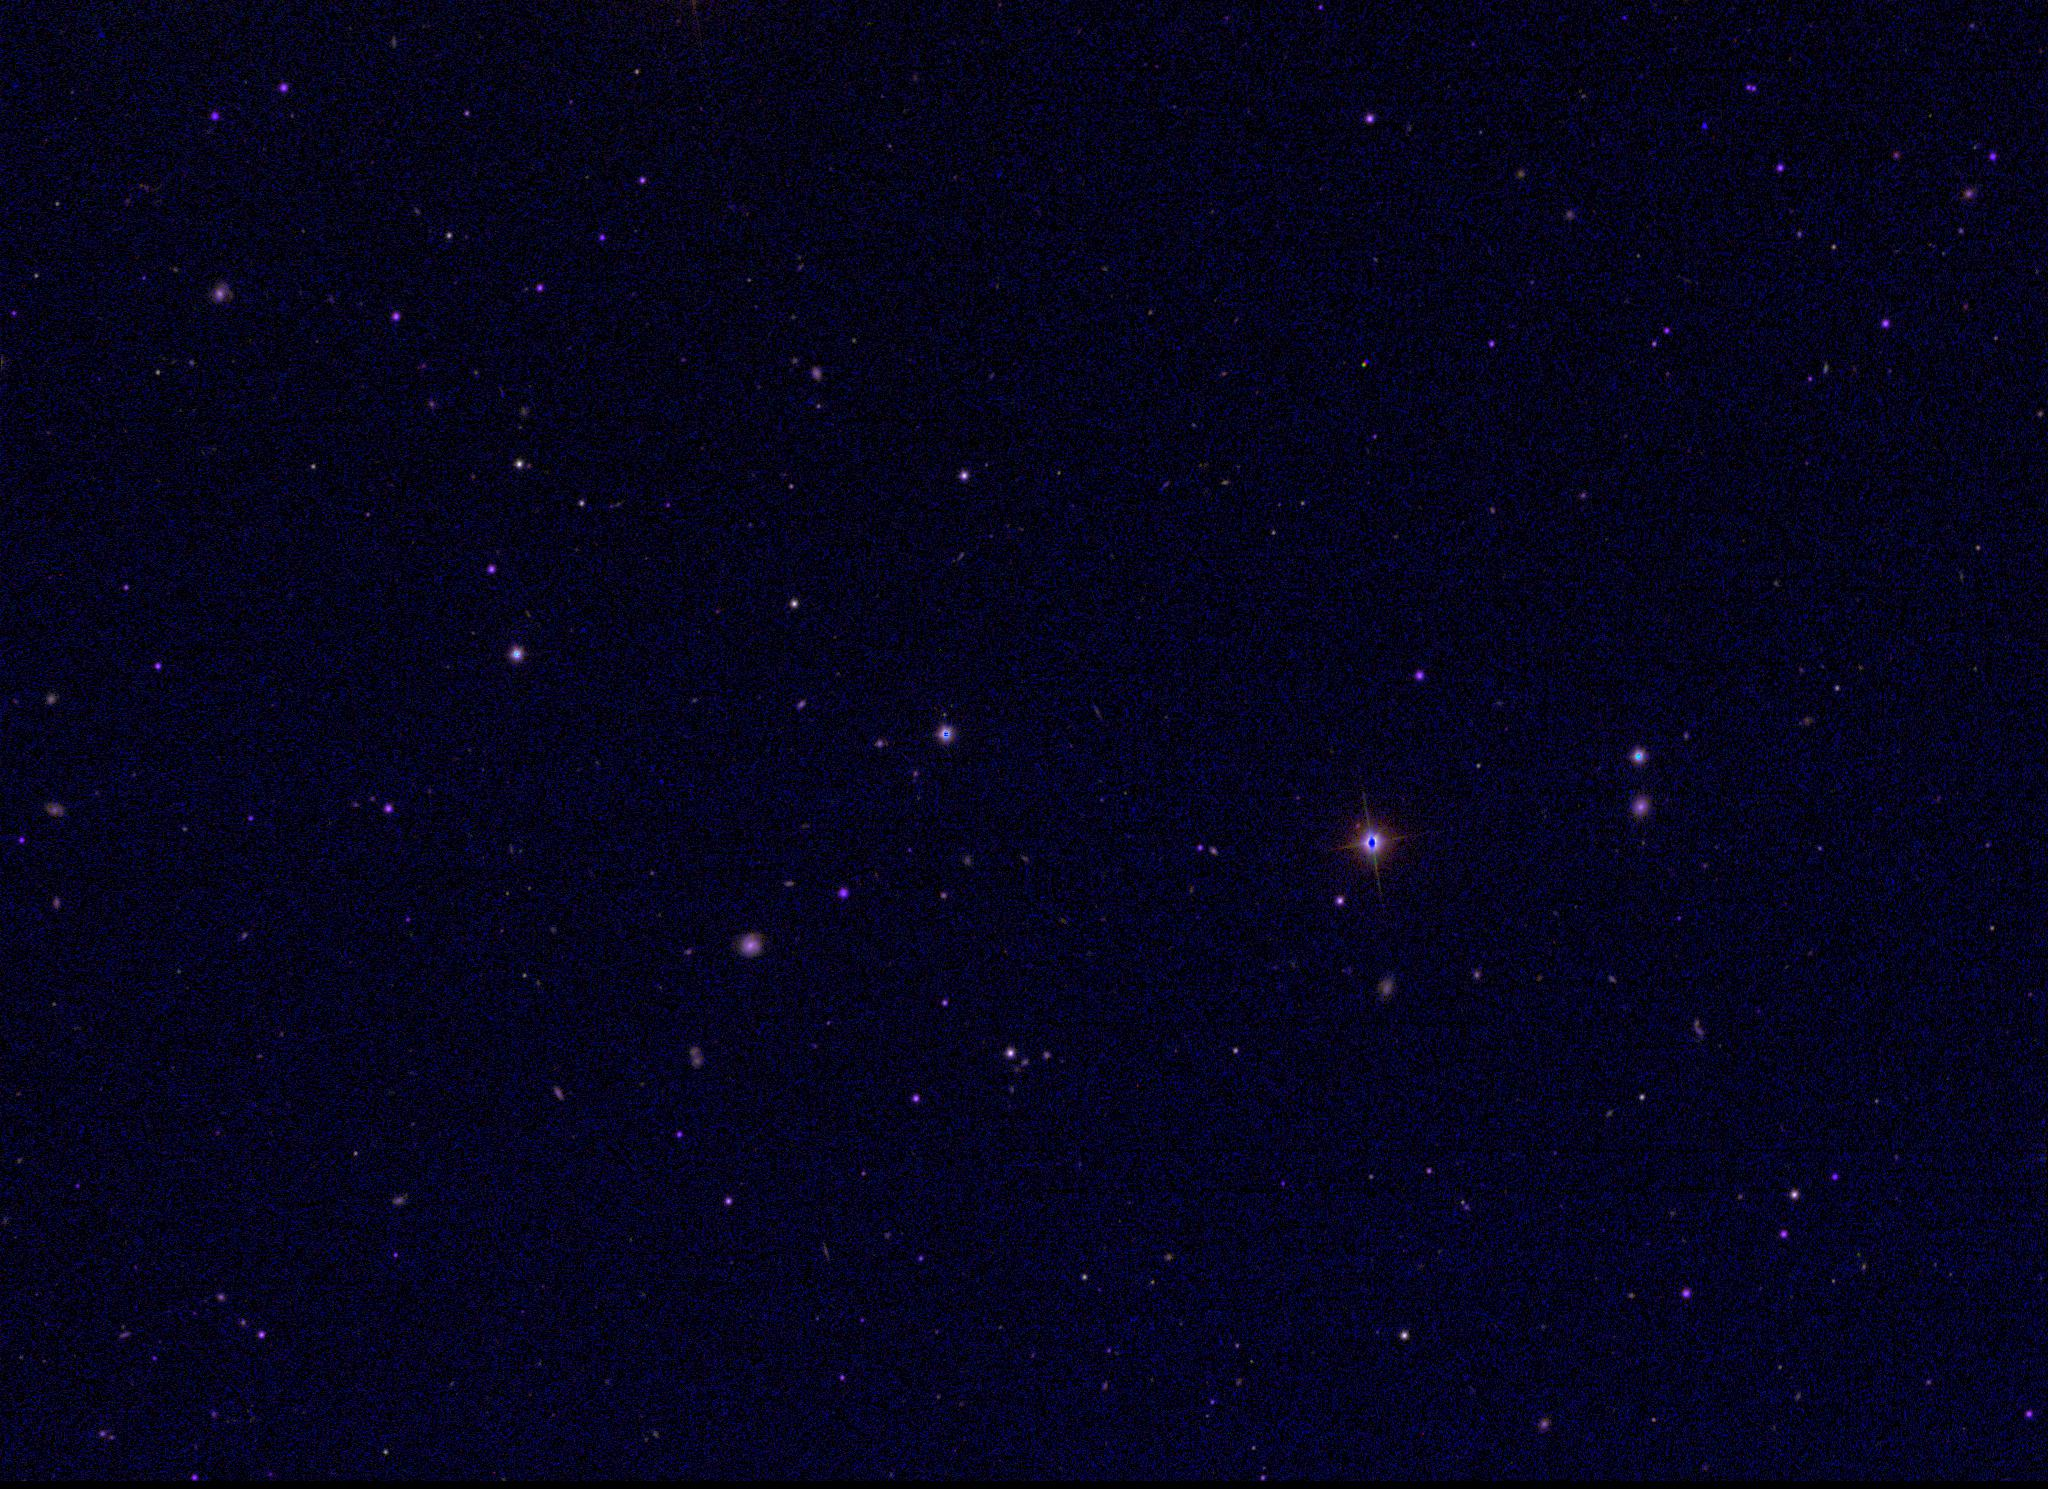L: (1697, 119, 1711, 134)
